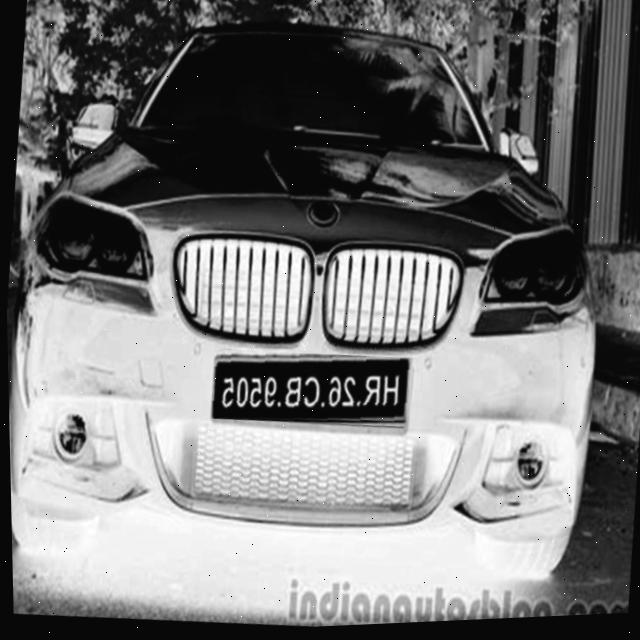Non_registered: (207, 344, 412, 437)
